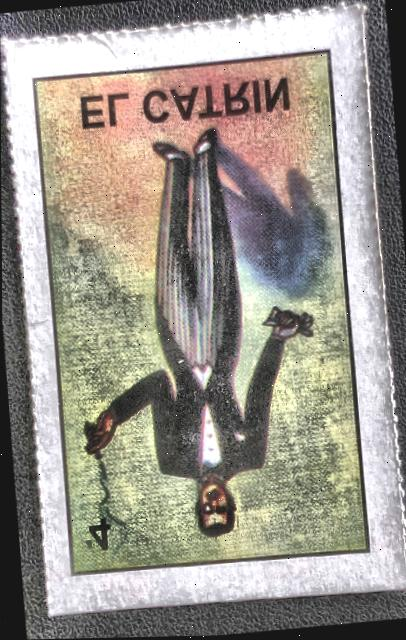El Catrin: (19, 22, 387, 599)
